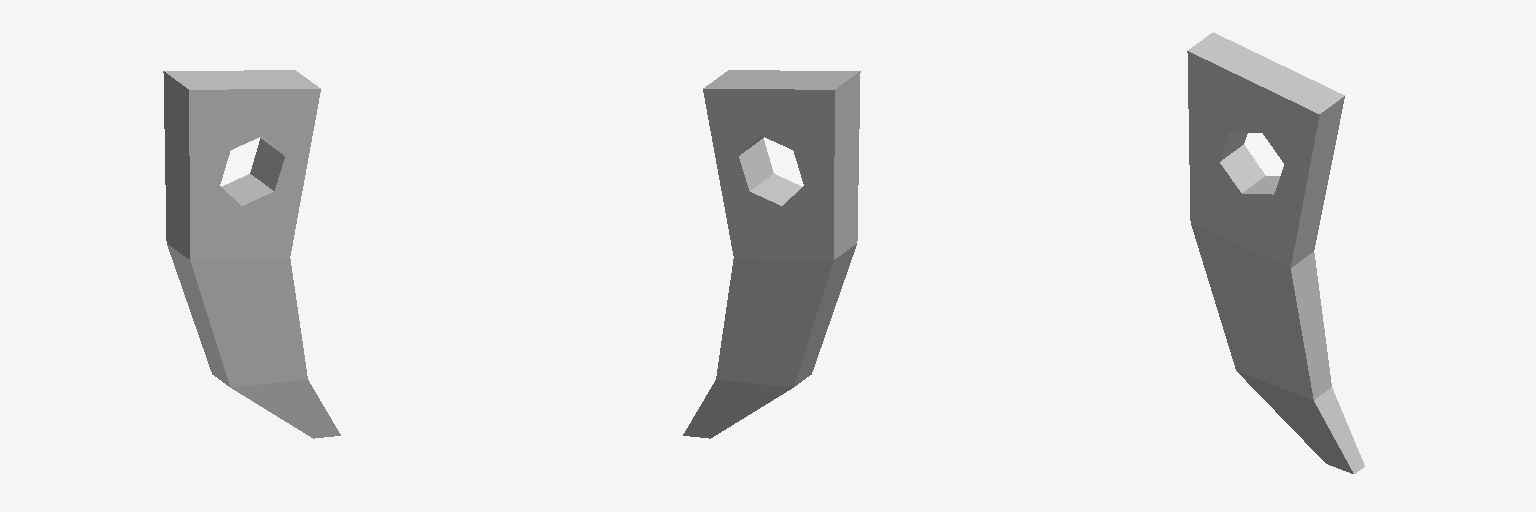
Rendered from PE_UFO_Arm_B_01.obj.
3 renders of one model, left to right at view 1: azimuth 30°, elevation 25°; view 2: azimuth 150°, elevation 25°; view 3: azimuth 330°, elevation 25°, orthographic.
Parts seen in each view (by area): view 1: PE_UFO_Arm_B_01; view 2: PE_UFO_Arm_B_01; view 3: PE_UFO_Arm_B_01.
Part boxes in pixels (bbox=[...]): PE_UFO_Arm_B_01: bbox=[163, 70, 340, 438]; PE_UFO_Arm_B_01: bbox=[683, 70, 860, 438]; PE_UFO_Arm_B_01: bbox=[1187, 32, 1364, 473].
Bounding box in the file's own units: 1.07 × 2.51 × 0.2992.